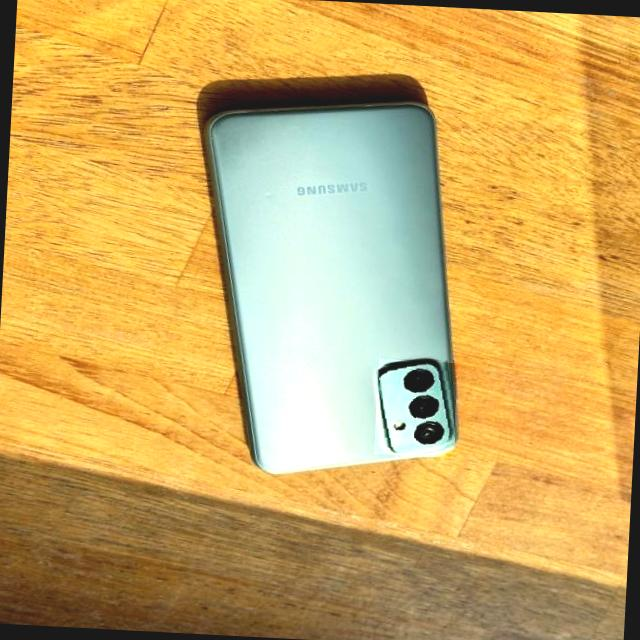lens_back: (401, 390, 444, 426), (398, 365, 436, 399), (410, 417, 448, 449)
phone: (177, 84, 480, 483)
